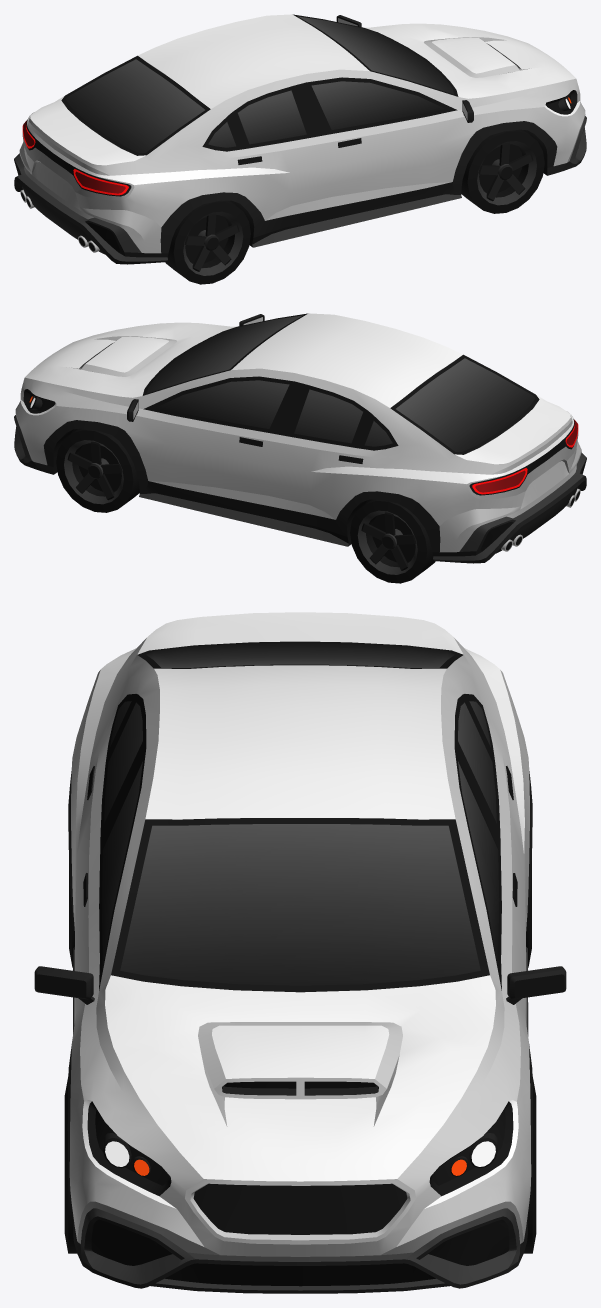
File: Car_158.glb
3 renders of one model, top to bottom at view 1: azimuth 30°, elevation 25°; view 2: azimuth 150°, elevation 25°; view 3: azimuth 270°, elevation 25°, orthographic. The views are drawn at different scales.
Parts seen in each view (by area): view 1: Car_158, wheel_1_Car_158_Wheel_1R, wheel_3_Car_158_Wheel_2R; view 2: Car_158, wheel_0_Car_158_Wheel_1L, wheel_2_Car_158_Wheel_2L; view 3: Car_158, wheel_1_Car_158_Wheel_1R, wheel_0_Car_158_Wheel_1L.
Part boxes in pixels (bbox=[...]): Car_158: bbox=[14, 14, 586, 264]; wheel_1_Car_158_Wheel_1R: bbox=[461, 129, 544, 213]; wheel_3_Car_158_Wheel_2R: bbox=[165, 200, 250, 284]; Car_158: bbox=[14, 313, 586, 563]; wheel_0_Car_158_Wheel_1L: bbox=[56, 428, 139, 512]; wheel_2_Car_158_Wheel_2L: bbox=[350, 499, 435, 583]; Car_158: bbox=[34, 612, 566, 1293]; wheel_1_Car_158_Wheel_1R: bbox=[64, 1077, 76, 1253]; wheel_0_Car_158_Wheel_1L: bbox=[524, 1077, 536, 1253].
Bounding box in the file's own units: 4.64 × 1.45 × 2.07.
Materials: 2 (2 with a texture image).
